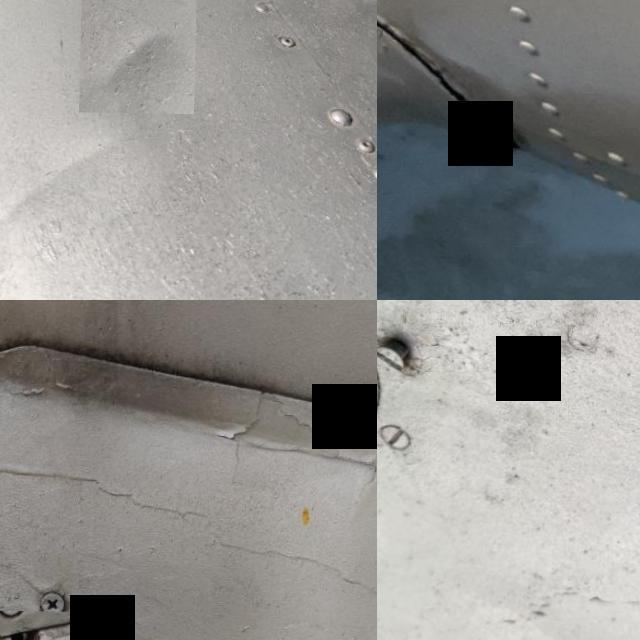Crack: (392, 32, 540, 180), (0, 610, 74, 640)
Dent: (0, 119, 137, 254), (81, 0, 198, 113)
Missing_Fastener: (377, 27, 384, 51)
